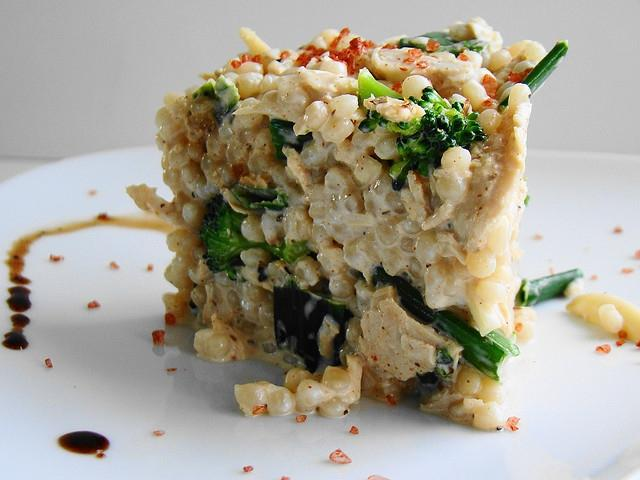broccoli: (372, 266, 510, 381), (358, 87, 488, 192), (198, 194, 312, 280), (274, 280, 356, 375), (192, 74, 240, 114), (230, 181, 290, 212), (416, 371, 438, 384)
